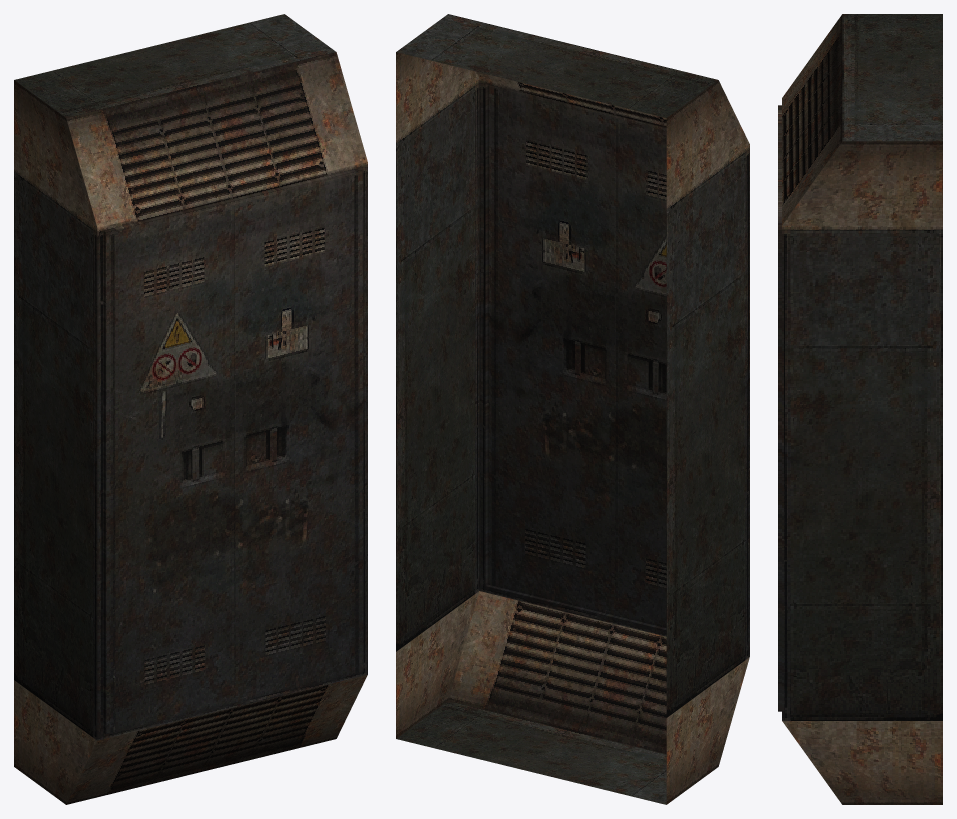
File: electrical_equipment_1.glb
3 views of the same model, side by side, from view 1: azimuth 30°, elevation 25°; view 2: azimuth 150°, elevation 25°; view 3: azimuth 270°, elevation 25° (orthographic). The views are drawn at different scales.
Visible parts, largest first — view 1: electrical_equipment_1; view 2: electrical_equipment_1; view 3: electrical_equipment_1.
Boxes of the visible parts, x1,y1,x2,y2 form: electrical_equipment_1: (14, 14, 367, 804); electrical_equipment_1: (396, 14, 749, 804); electrical_equipment_1: (778, 14, 942, 804).
Size of the model in its own units: 1.2 by 2.91 by 0.656.
1 material, 1 textured.
